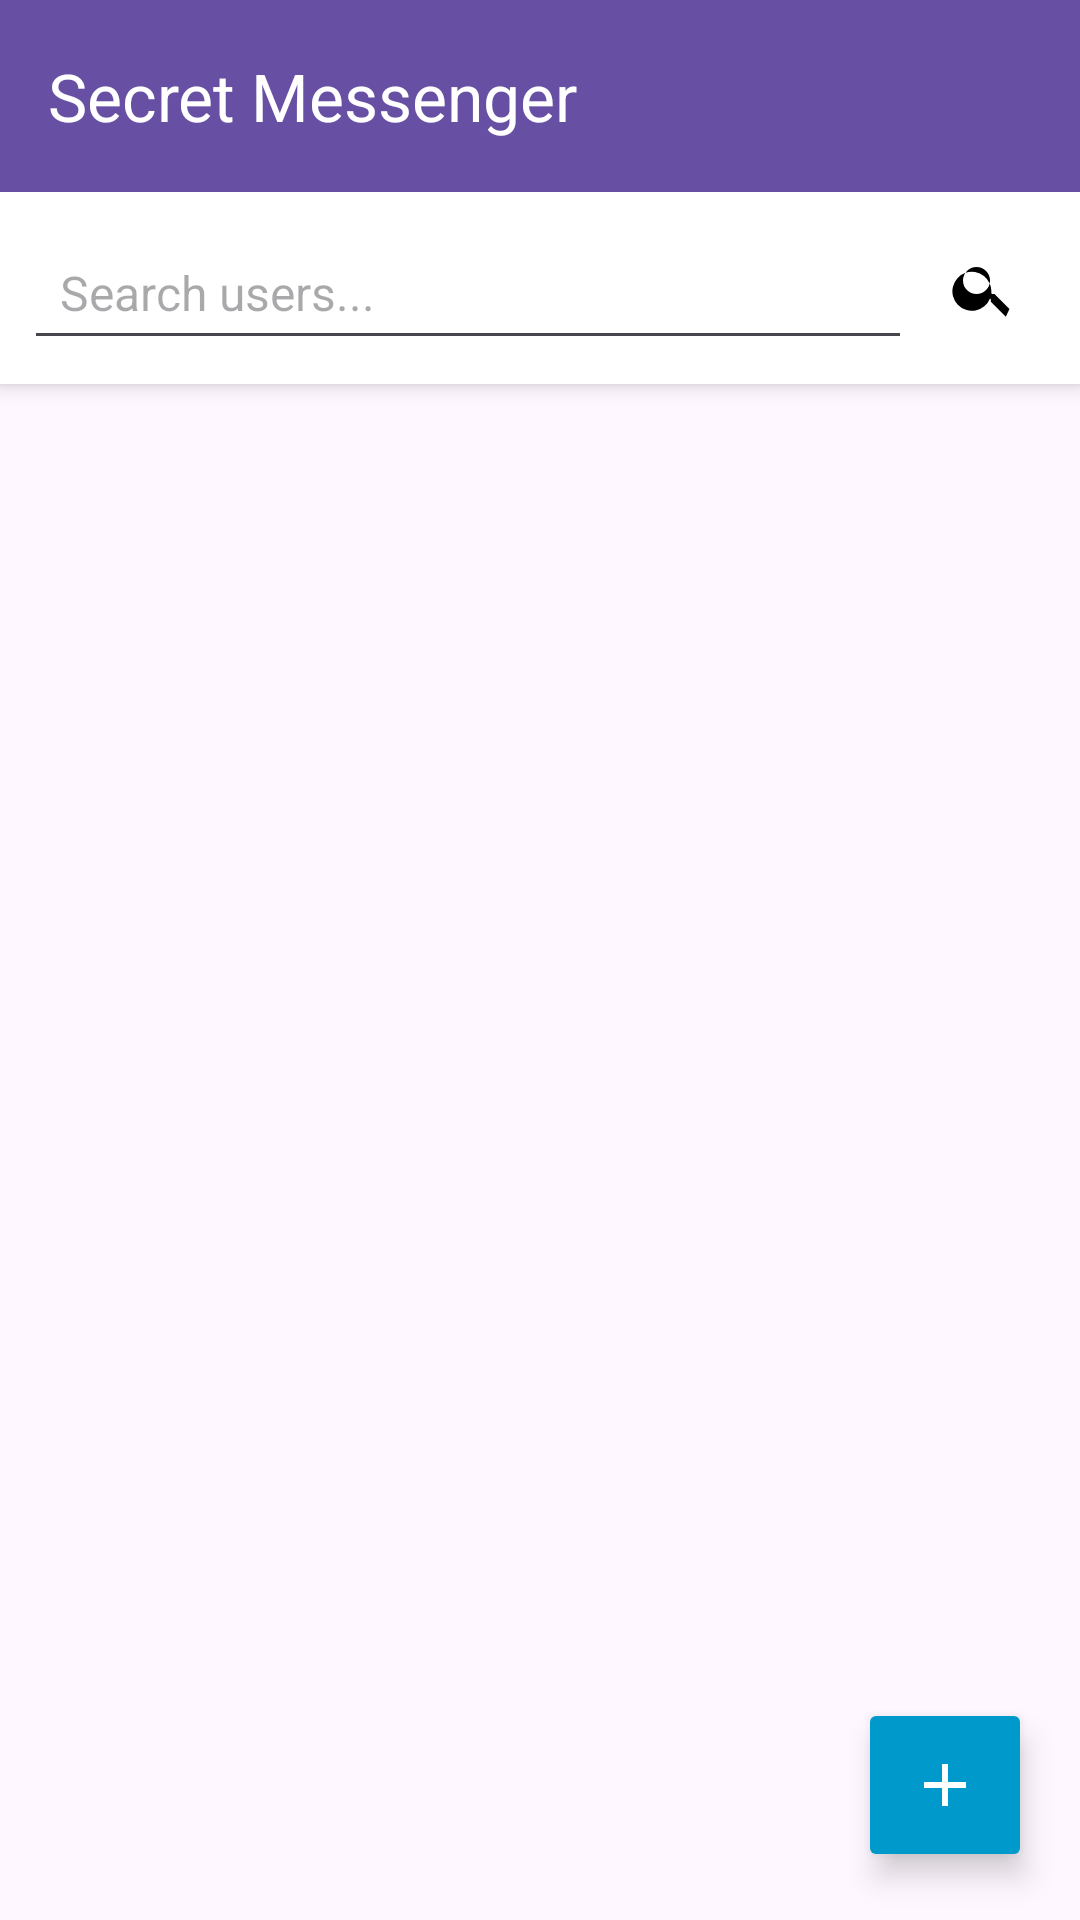

Screen size 1080px×1920px. Icon name, then its center in pixels as (x,y):
Add: (946,1793)
